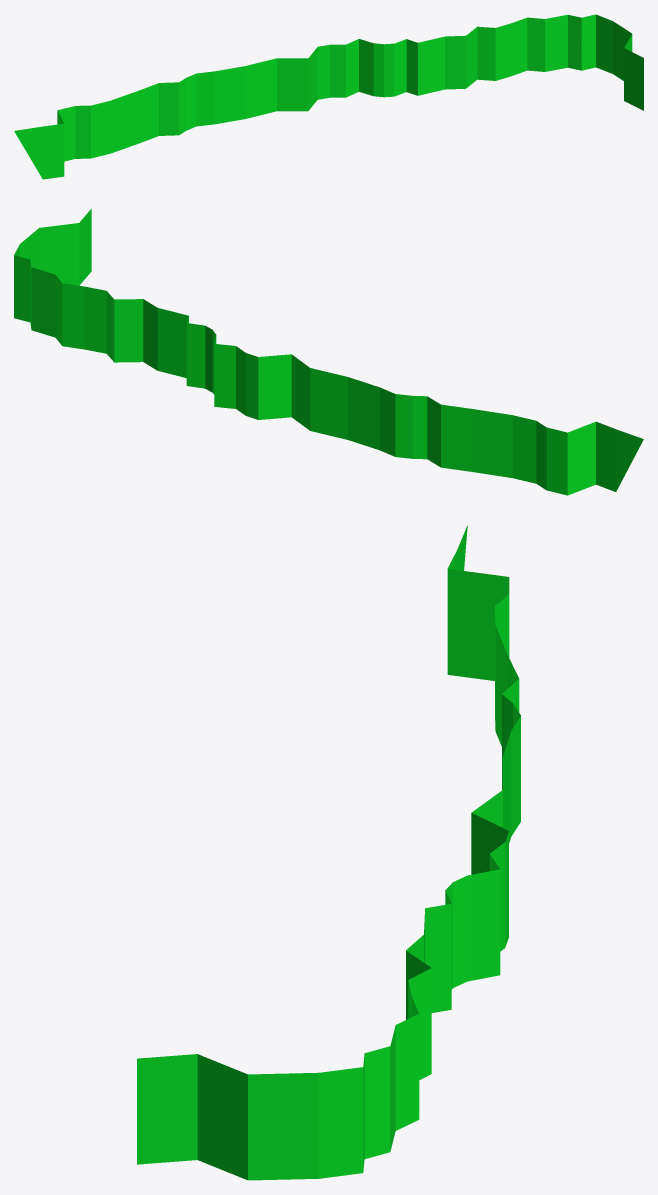
File: Main city east scene collider.fbx
The picture shows the model from 3 angles, top to bottom: view 1: azimuth 30°, elevation 25°; view 2: azimuth 150°, elevation 25°; view 3: azimuth 270°, elevation 25°; orthographic projection. The views are drawn at different scales.
Visible parts, largest first — view 1: Scene_collider_PolyShape; view 2: Scene_collider_PolyShape; view 3: Scene_collider_PolyShape.
Boxes of the visible parts, x1,y1,x2,y2 form: Scene_collider_PolyShape: [14, 14, 643, 179]; Scene_collider_PolyShape: [14, 208, 643, 495]; Scene_collider_PolyShape: [137, 525, 520, 1180].
Bounding box in the file's own units: 44484 × 13133 × 4000.
